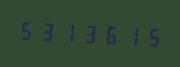five: (17, 16, 36, 44), (137, 22, 156, 50)
one: (57, 18, 76, 46), (117, 21, 136, 49)
six: (97, 20, 116, 48)
three: (37, 17, 56, 45), (77, 19, 96, 47)
